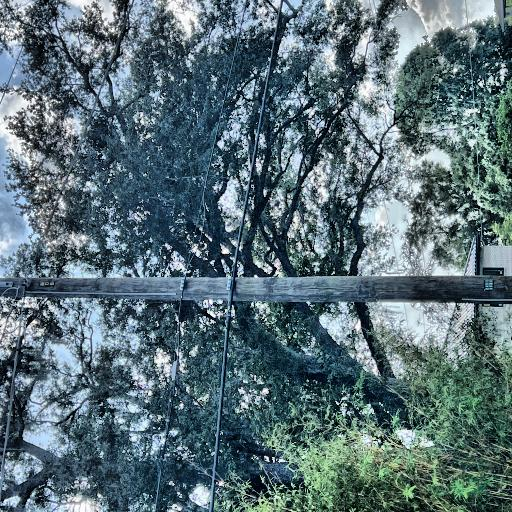insulator: (80, 18, 91, 28)
pole: (82, 0, 108, 512)
transformer: (59, 51, 88, 110)
